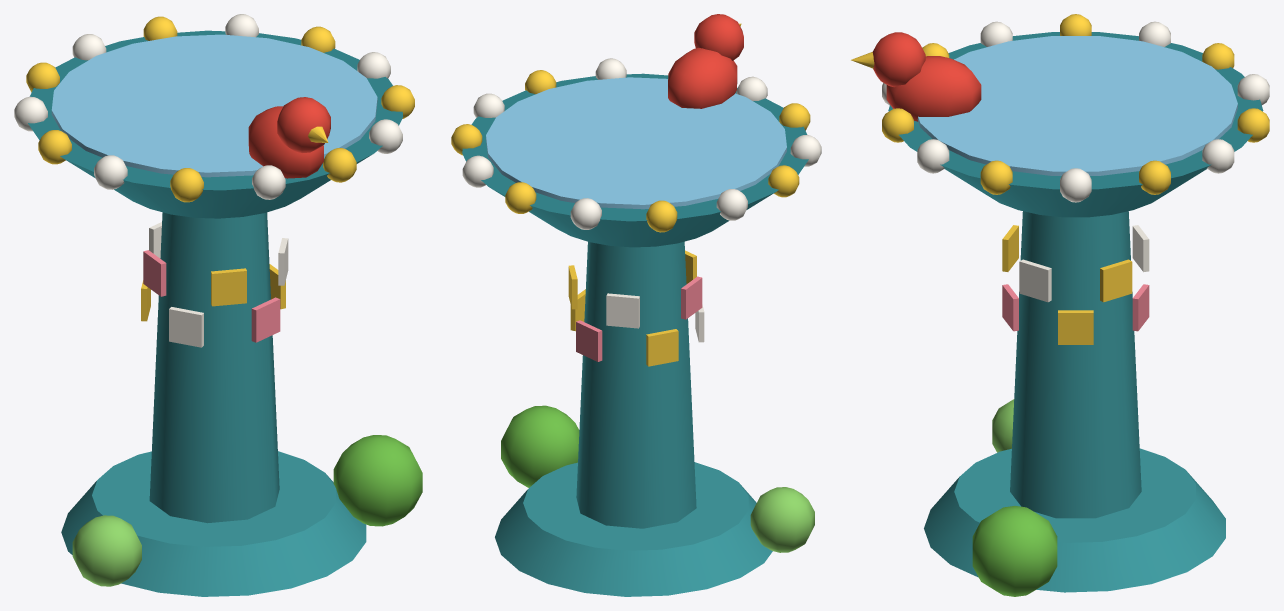
The model's file is birdbath-mosaic.glb.
3 views of the same model, side by side, from view 1: azimuth 30°, elevation 25°; view 2: azimuth 150°, elevation 25°; view 3: azimuth 270°, elevation 25° (orthographic). The views are drawn at different scales.
Size of the model in its own units: 0.7863 by 1.08 by 0.8275.
